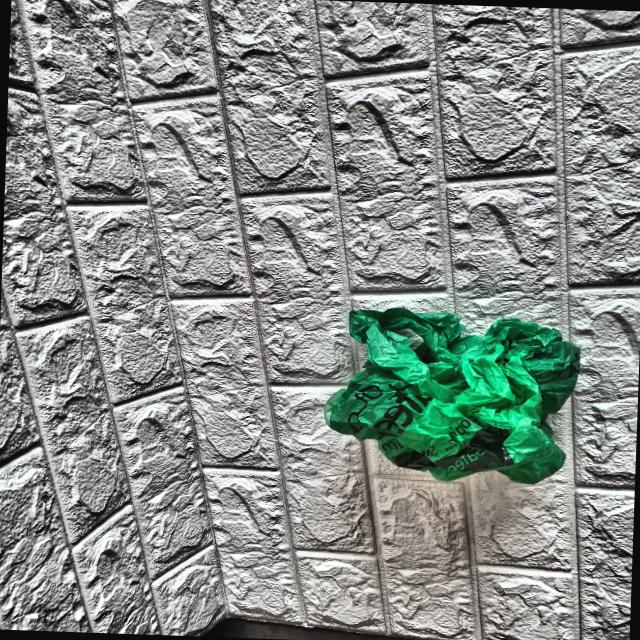plastic bag: (319, 298, 592, 486)
